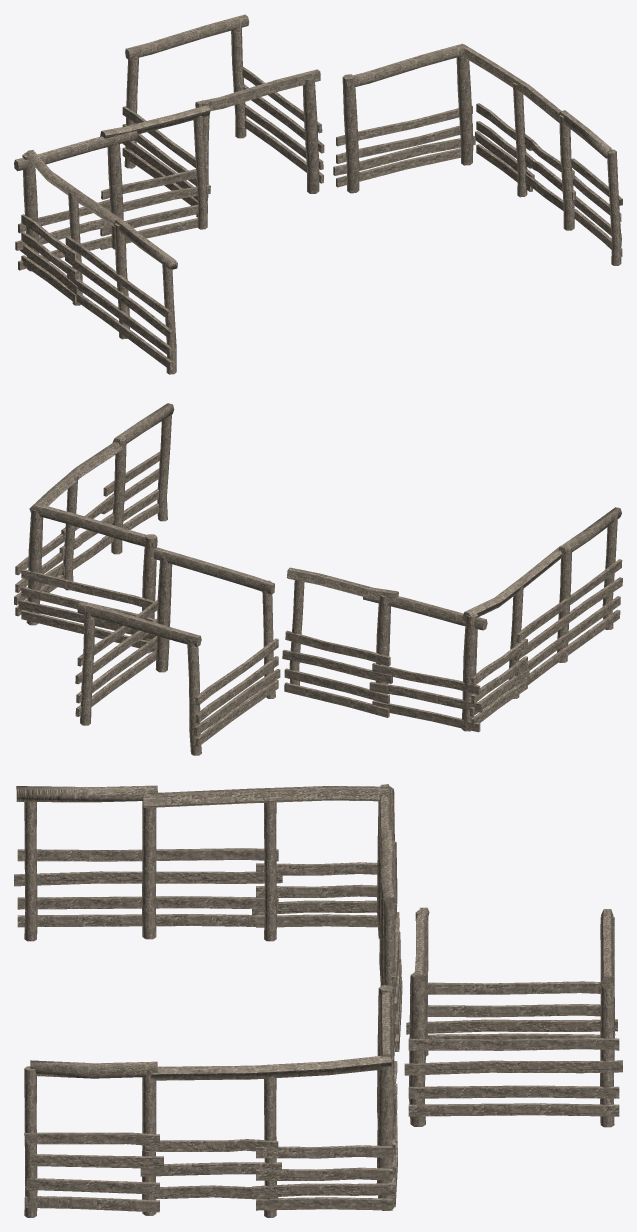
File: MineRoomStructure.fbx
3 views of the same model, one above another, from view 1: azimuth 30°, elevation 25°; view 2: azimuth 150°, elevation 25°; view 3: azimuth 270°, elevation 25° (orthographic). The views are drawn at different scales.
Parts seen in each view (by area): view 1: Wood_M_08; view 2: Wood_M_08; view 3: Wood_M_08.
Part boxes in pixels (x1=…): Wood_M_08: x1=14, y1=14, x2=622, y2=374; Wood_M_08: x1=14, y1=403, x2=622, y2=755; Wood_M_08: x1=14, y1=784, x2=622, y2=1217.
Bounding box in the file's own units: 1243 × 317 × 1092.
